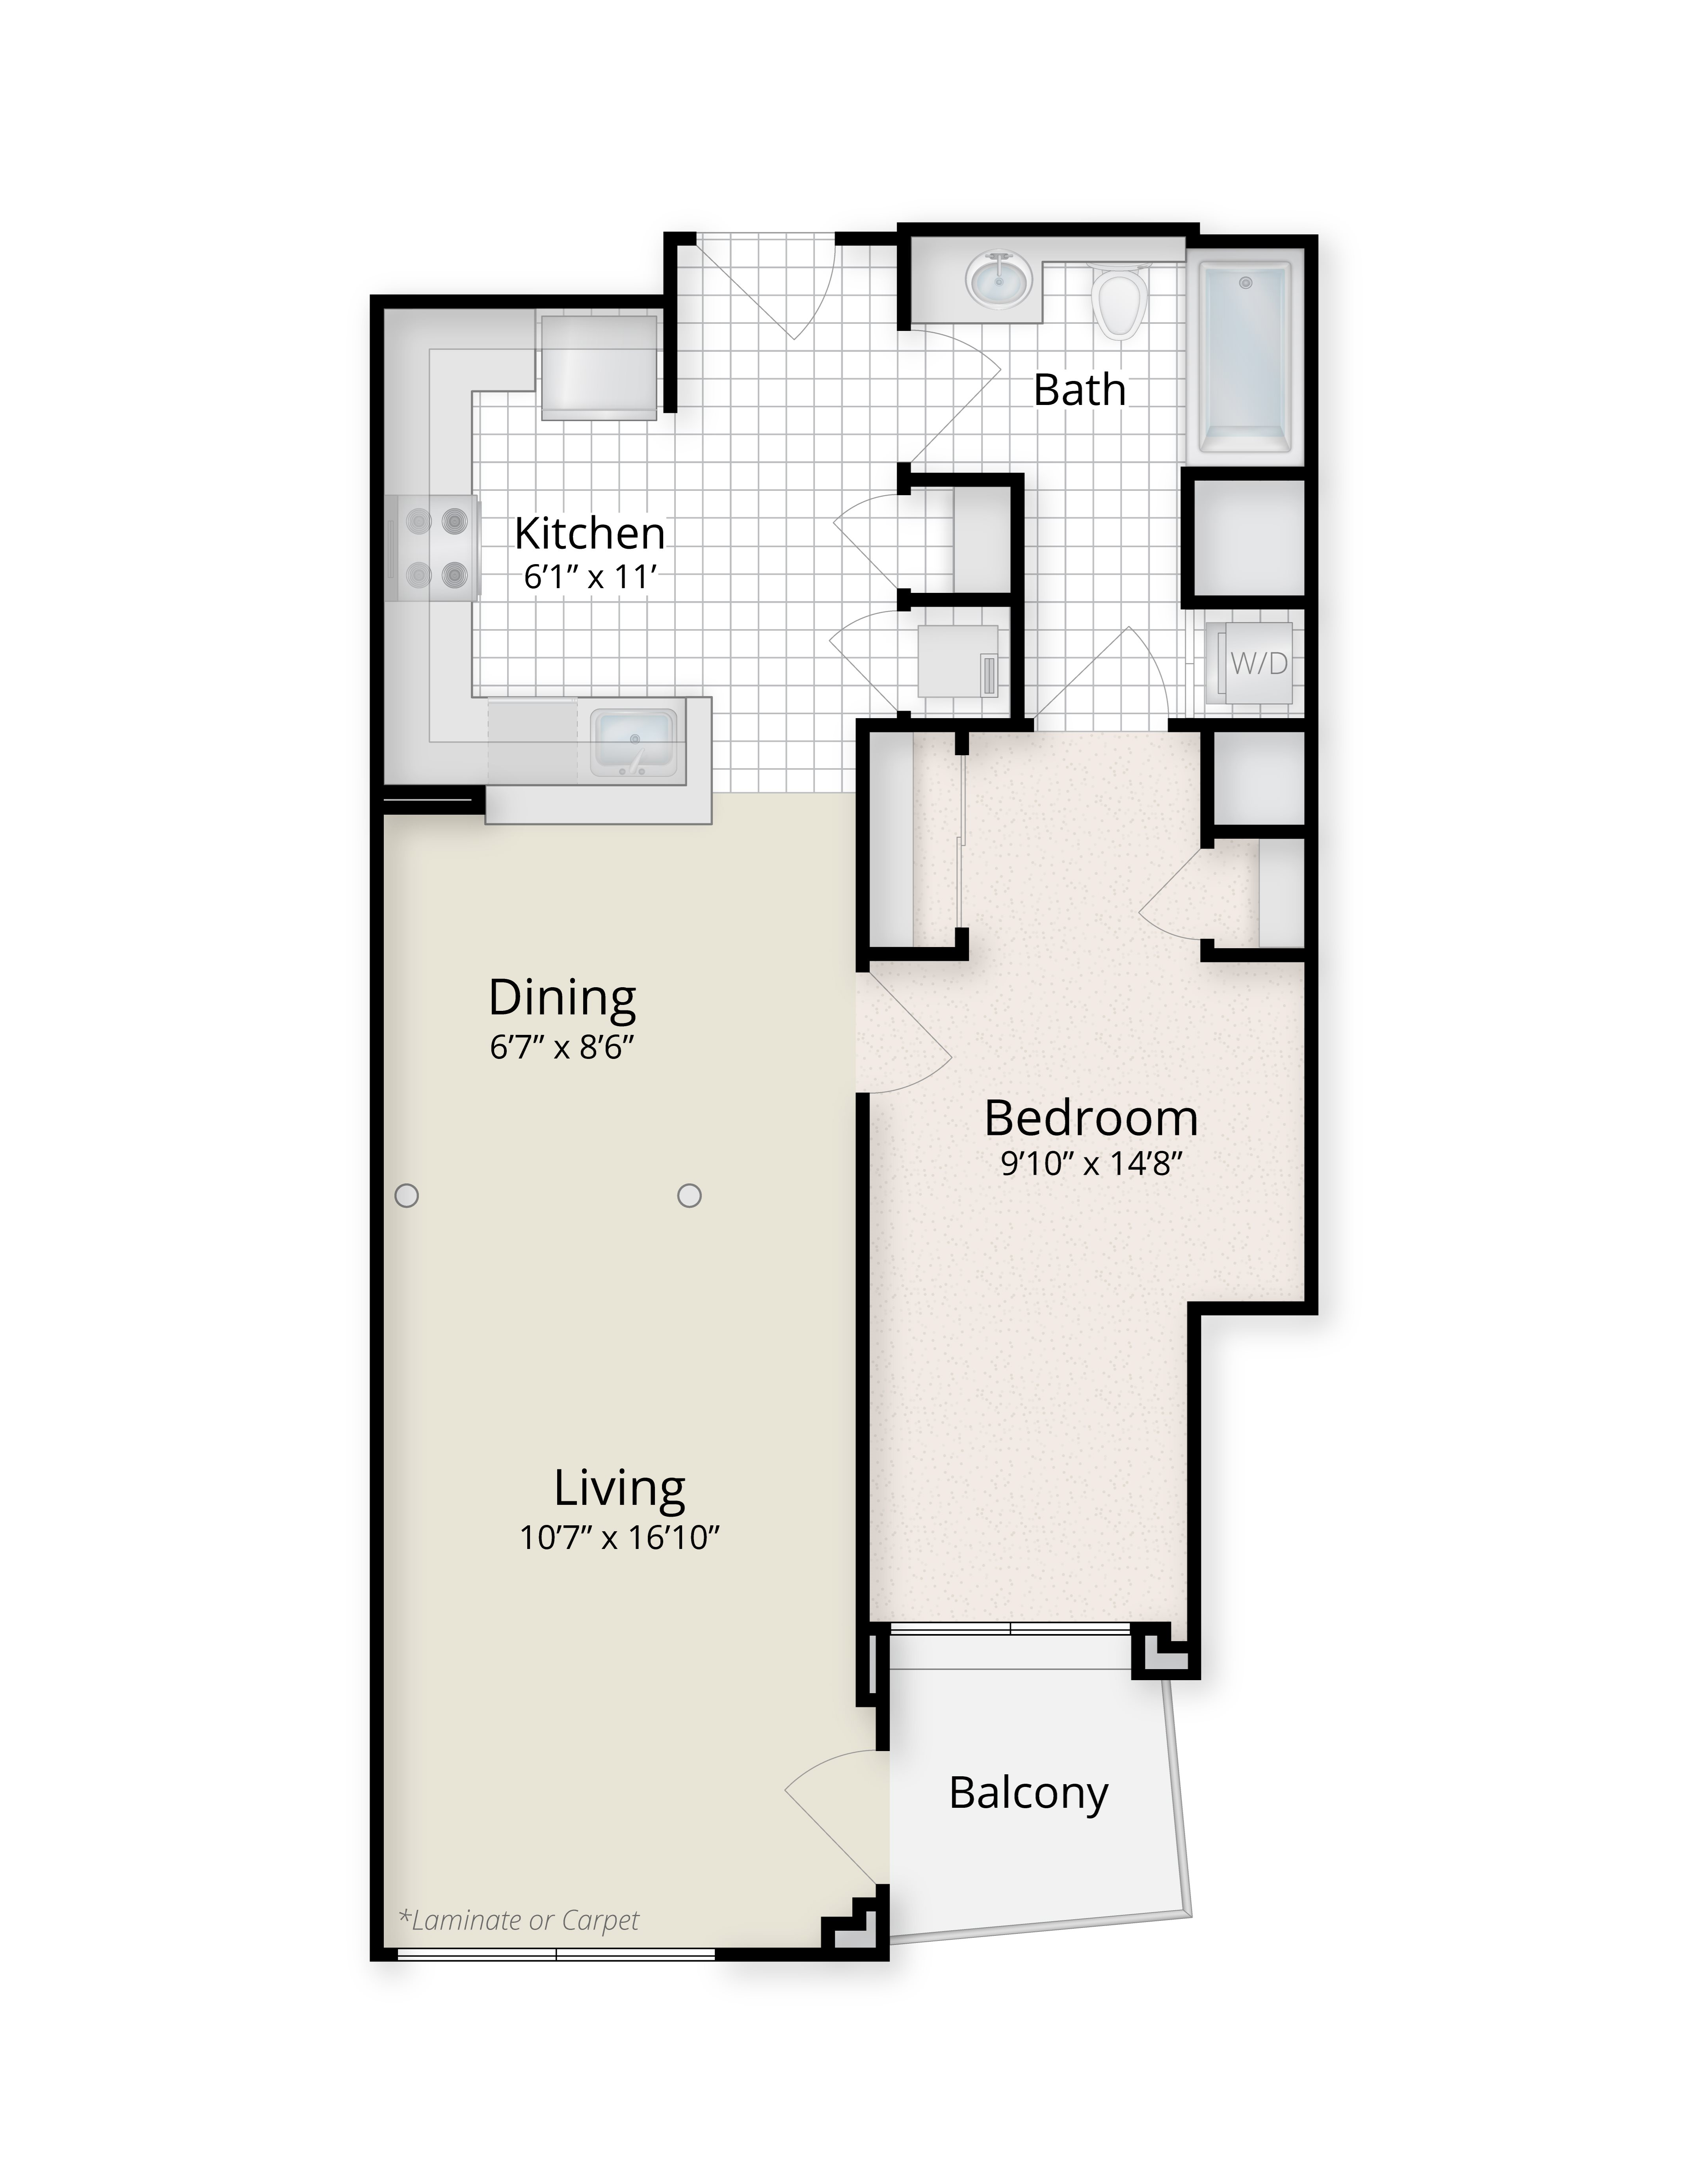window: (888, 1624, 1133, 1672), (397, 1946, 716, 1964)
